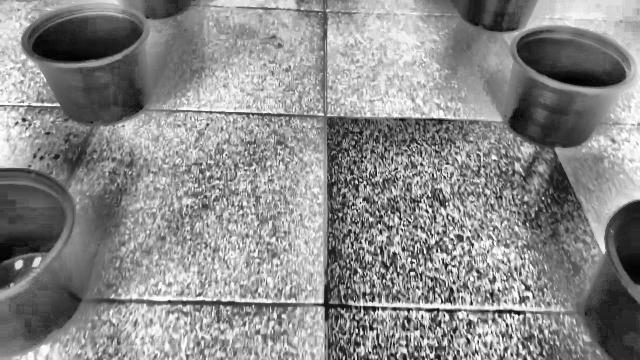pot: (504, 25, 640, 148), (21, 2, 150, 126), (0, 168, 80, 356), (583, 200, 640, 360)
